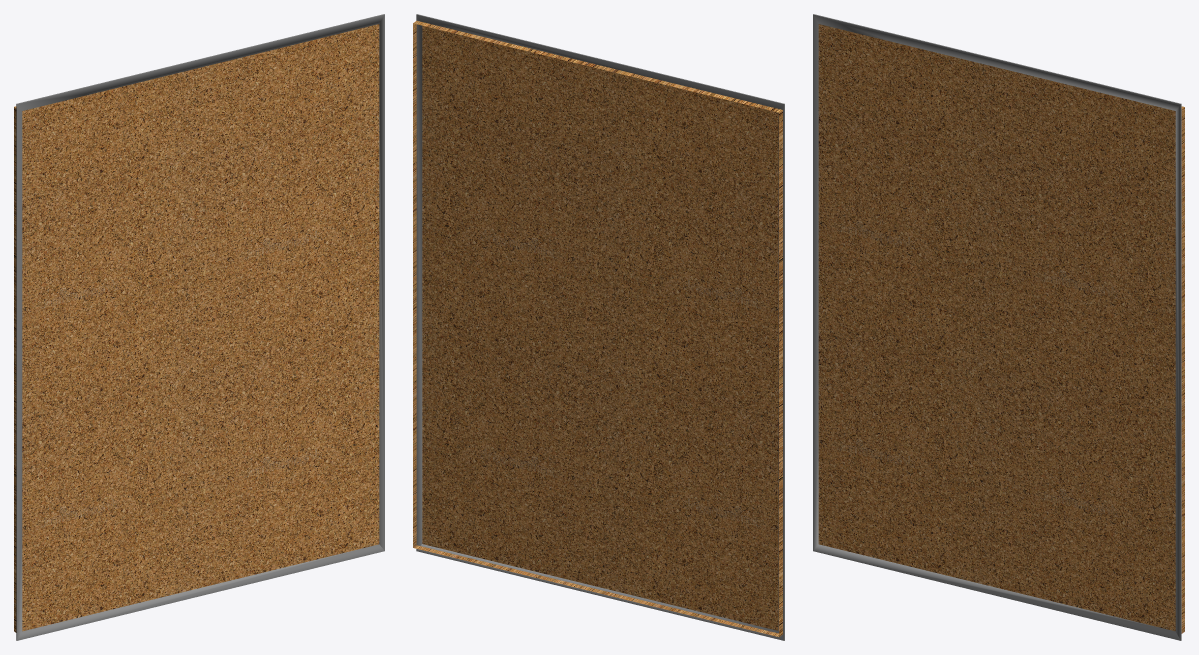
File: TablicaKorkowa.fbx
The picture shows the model from 3 angles, left to right: view 1: azimuth 30°, elevation 25°; view 2: azimuth 150°, elevation 25°; view 3: azimuth 330°, elevation 25°; orthographic projection.
Visible parts, largest first — view 1: 1; view 2: 1; view 3: 1.
Part boxes in pixels (box(x1,y1,x2,y2)): 1: box(14, 14, 384, 640); 1: box(413, 14, 784, 640); 1: box(813, 14, 1184, 640).
Bounding box in the file's own units: 90.49 × 126 × 1.86.
2 materials, 1 textured.
